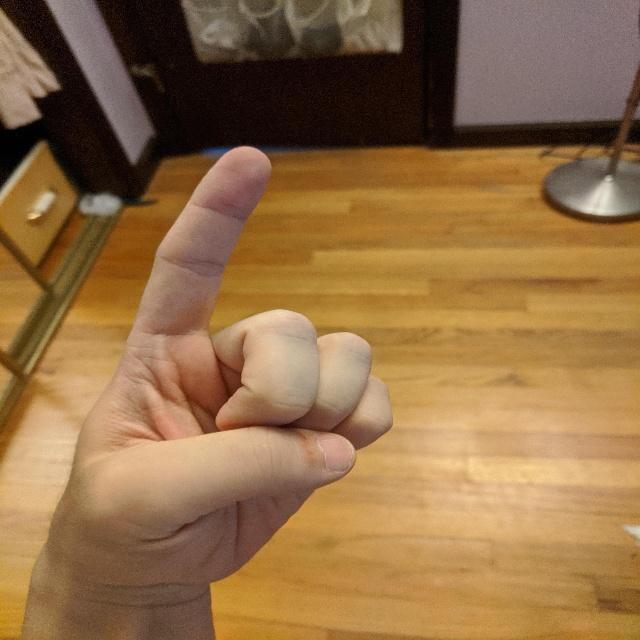D: (33, 141, 400, 581)
